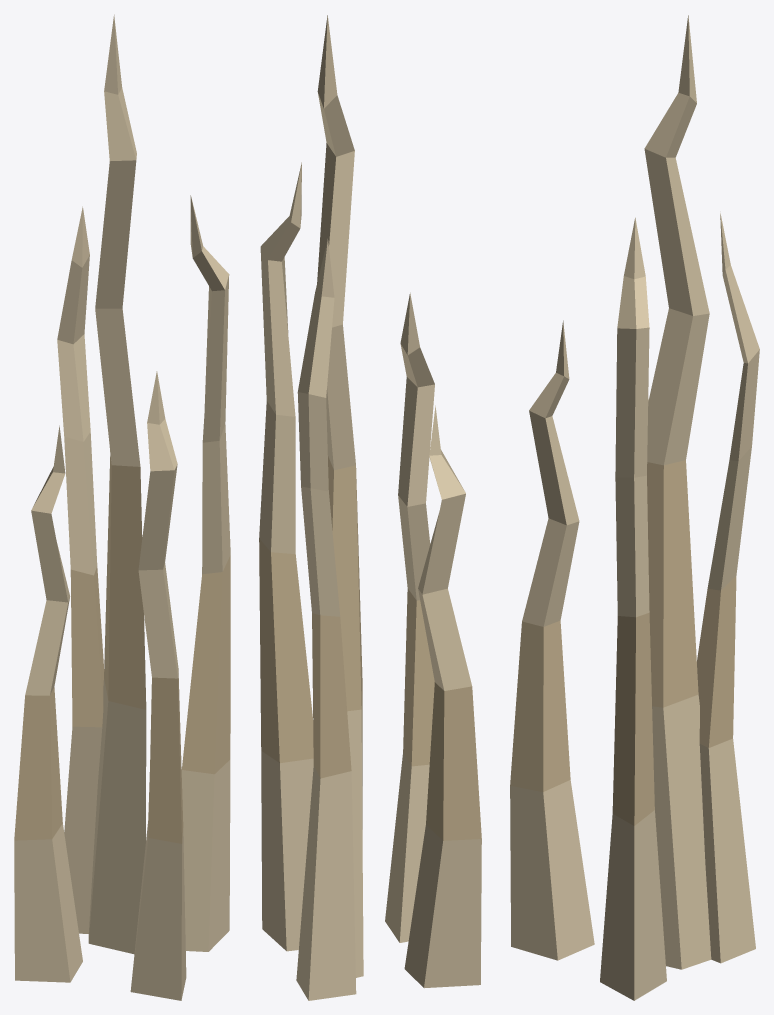
The model's file is EA_M_Env_DryTallGrass_01c.fbx.
3 renders of one model, left to right at view 1: azimuth 30°, elevation 25°; view 2: azimuth 150°, elevation 25°; view 3: azimuth 270°, elevation 25°, orthographic. The views are drawn at different scales.
Visible parts, largest first — view 1: EA_M_Env_DryTallGrass_01c_LOD0; view 2: EA_M_Env_DryTallGrass_01c_LOD0; view 3: EA_M_Env_DryTallGrass_01c_LOD0.
Boxes of the visible parts, x1,y1,x2,y2 form: EA_M_Env_DryTallGrass_01c_LOD0: [14, 14, 230, 1000]; EA_M_Env_DryTallGrass_01c_LOD0: [259, 15, 481, 1000]; EA_M_Env_DryTallGrass_01c_LOD0: [510, 15, 759, 1000].
Size of what is drawn, in the model's own units: 0.2687 by 1.1 by 0.2635.
